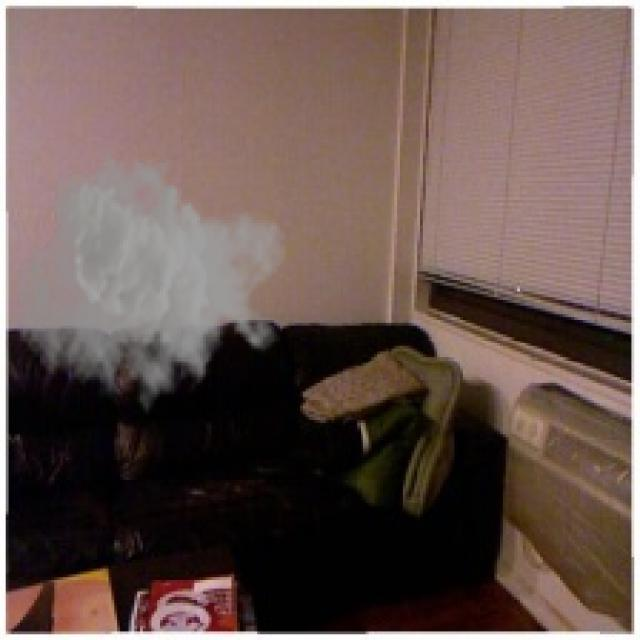smoke: (12, 146, 288, 423)
